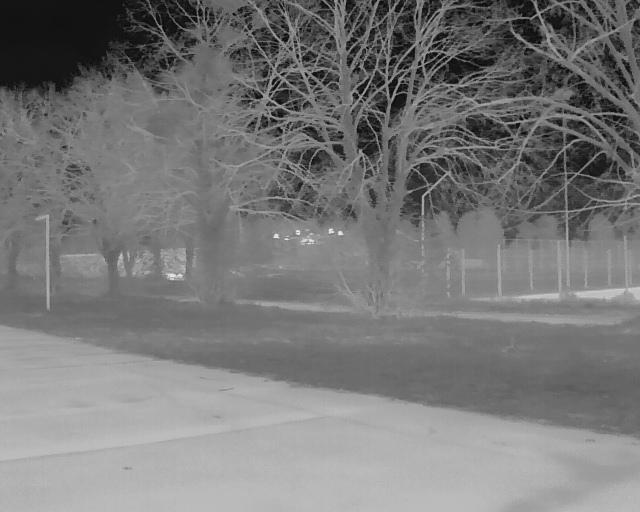drone: (262, 221, 352, 271)
